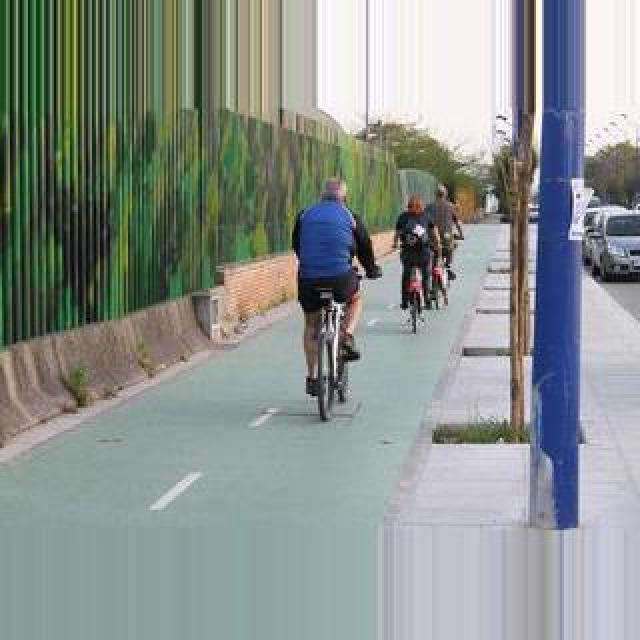Bus-Bike: (592, 210, 640, 282)
MC-Bike: (292, 176, 380, 390), (394, 194, 436, 326), (428, 186, 466, 290)
Person: (304, 290, 360, 422), (404, 260, 428, 334)
